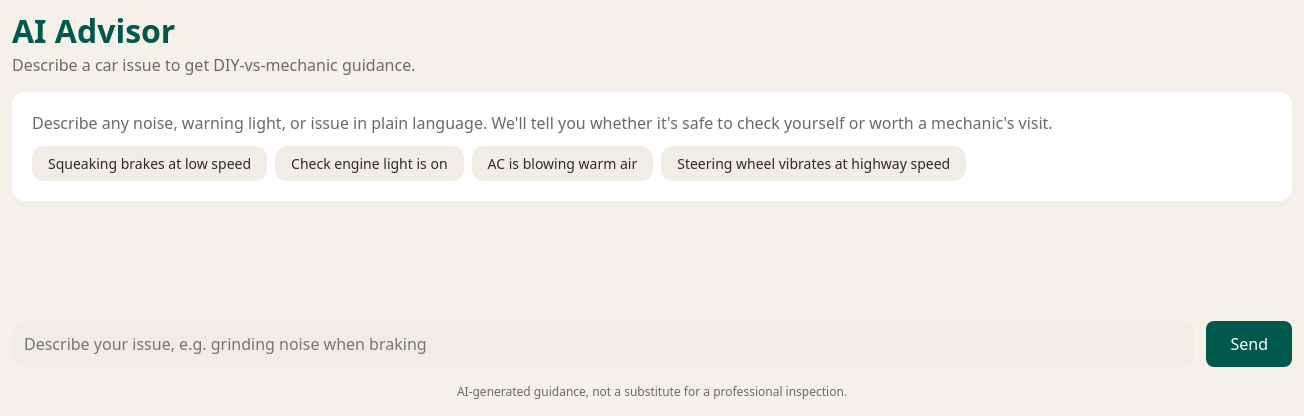
Test: AIAdvisorPage — chatting › shows the server's clear message when the description is rejected (symbols only)
Type "!!!???" into the field with placeholder "Describe your issue, e.g. grinding noise when braking" at (603, 344), box [12,321,1194,367]
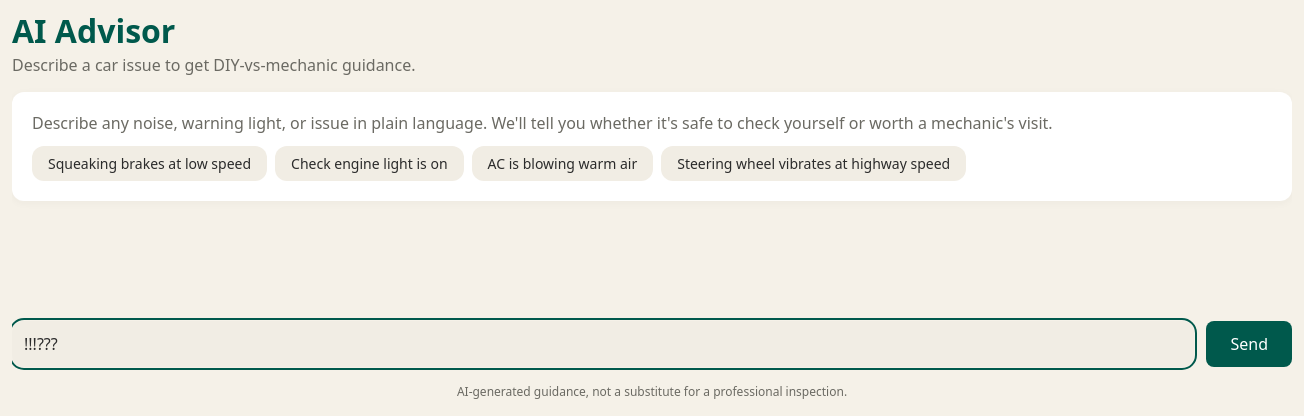
Click the button "Send" at (1249, 344), box [1206,321,1292,367]
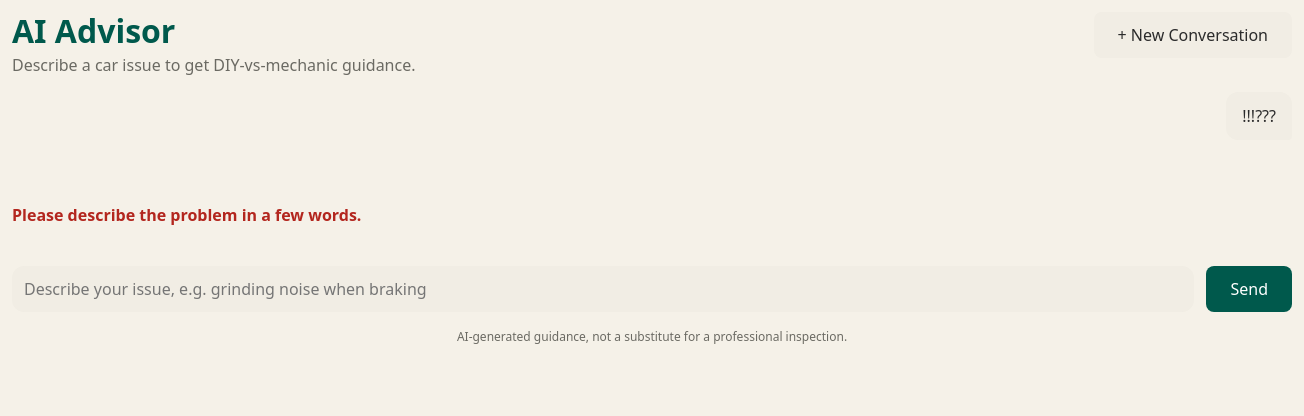
Expected: the message reads "Please describe the problem in a few words.", [12,204,361,226]
